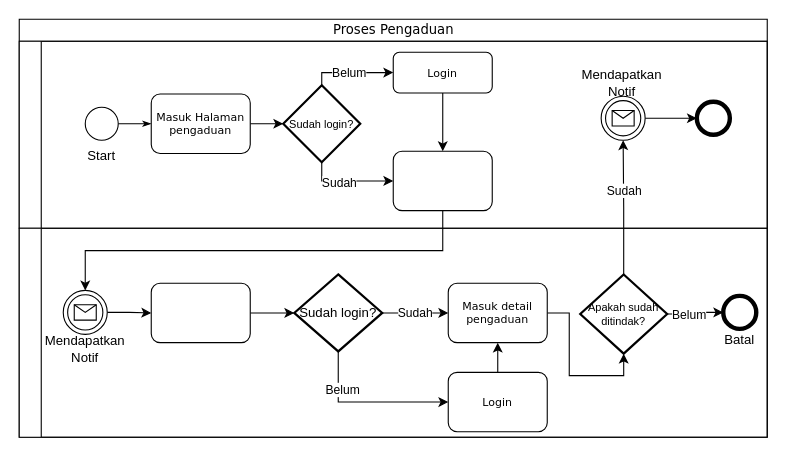
This 787x457 diagram has some shape labels left out. Each missing label, with the box of its shape:
Admin: (18, 227, 767, 437)
Input pengaduan atau aspirasi: (392, 150, 492, 211)
Masuk halaman web: (150, 282, 250, 343)
Rakyat: (18, 40, 767, 228)
